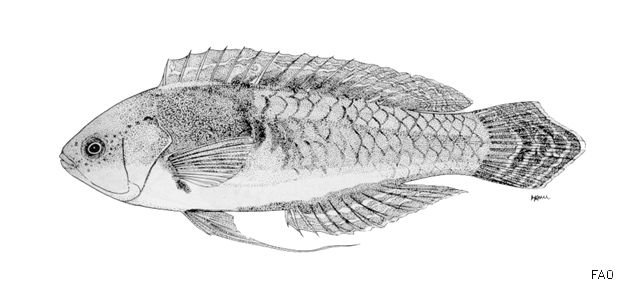fish: (60, 46, 588, 253)
